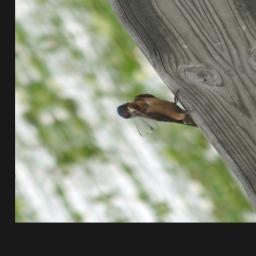Swallow: (112, 81, 208, 147)
